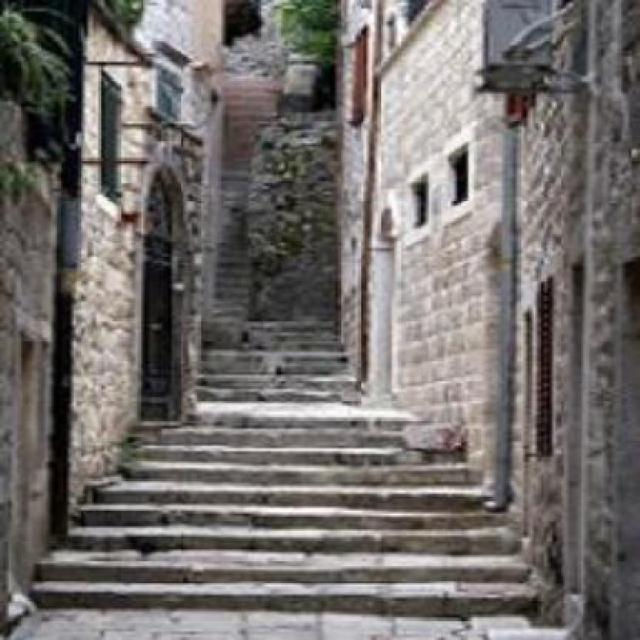stair: (28, 384, 548, 640)
